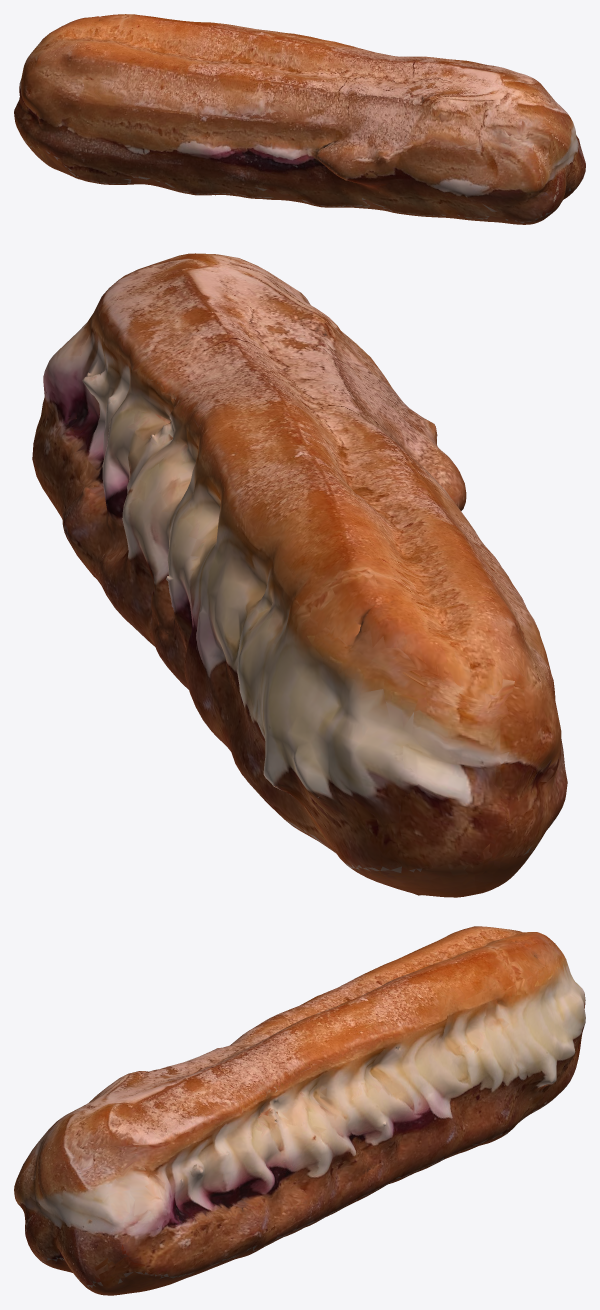
File: eclaire_13564.obj
3 views of the same model, one above another, from view 1: azimuth 30°, elevation 25°; view 2: azimuth 150°, elevation 25°; view 3: azimuth 270°, elevation 25° (orthographic). The views are drawn at different scales.
Bounding box in the file's own units: 93.82 × 31.6 × 91.29.
Materials: 1 (1 with a texture image).
